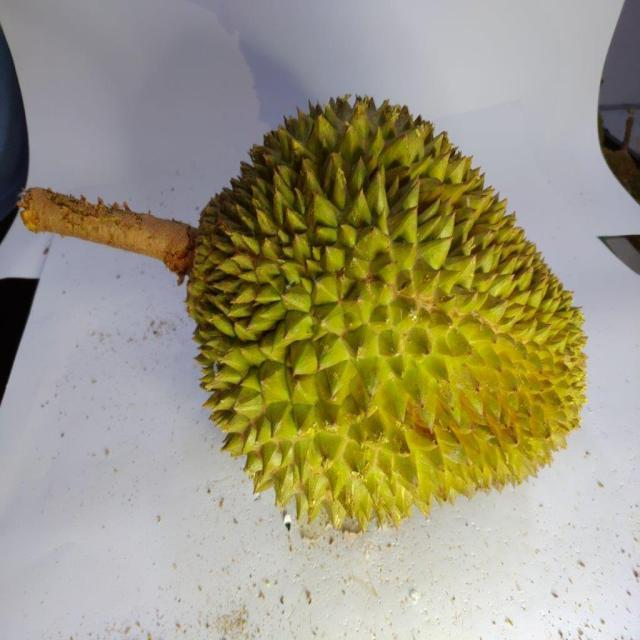immature: (187, 95, 590, 527)
